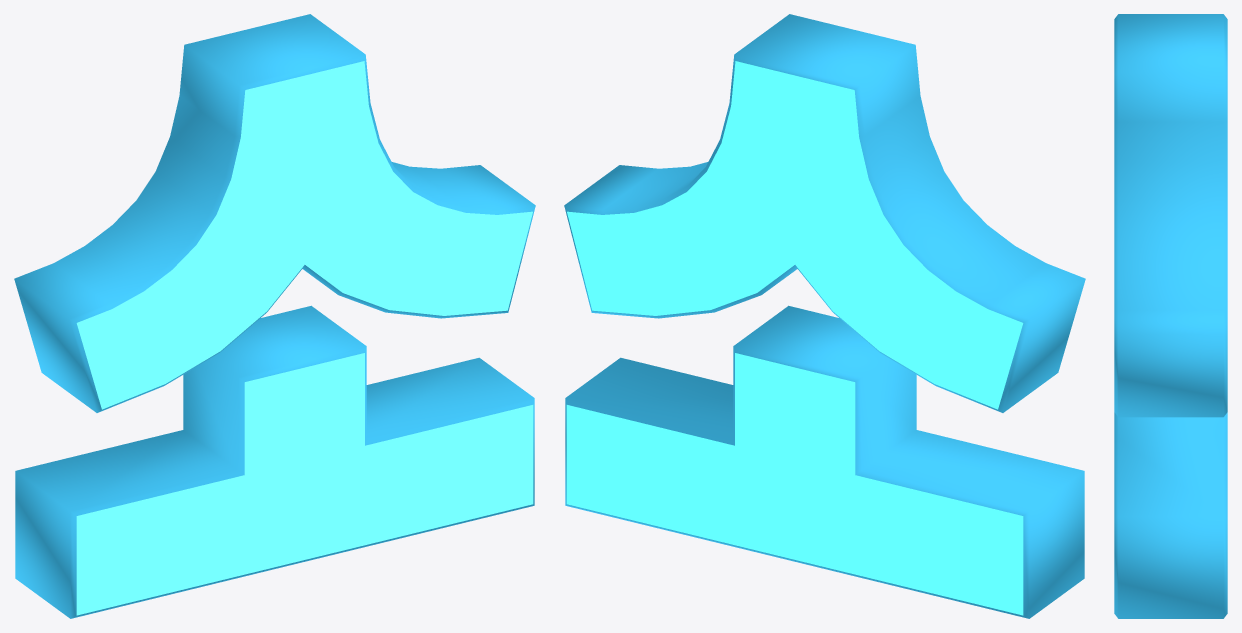
The picture shows the model from 3 angles, left to right: view 1: azimuth 30°, elevation 25°; view 2: azimuth 150°, elevation 25°; view 3: azimuth 270°, elevation 25°; orthographic projection. The views are drawn at different scales.
Visible parts, largest first — view 1: glyph; view 2: glyph; view 3: glyph.
Part boxes in pixels (x1,y1,x2,y2): glyph: (14, 14, 535, 618); glyph: (564, 14, 1085, 618); glyph: (1114, 14, 1227, 618).
Bounding box in the file's own units: 0.073 × 0.0736 × 0.0162.
